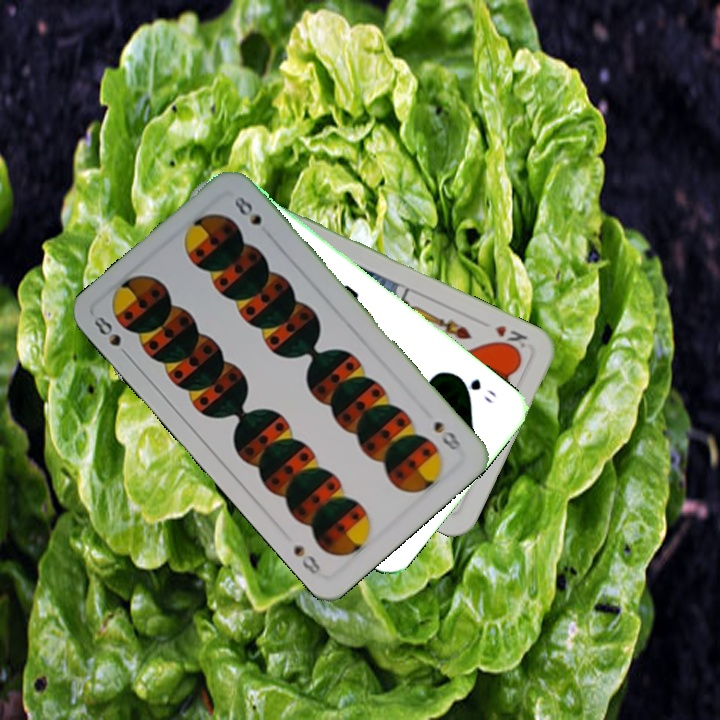GO: (452, 371, 498, 406)
HK: (491, 321, 530, 351)
S8: (89, 311, 134, 362), (429, 416, 464, 453)
